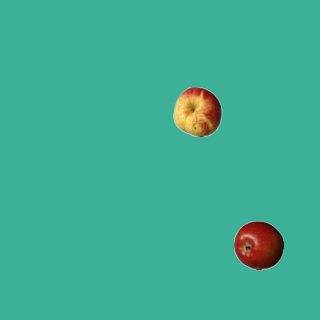Apple Braeburn: (233, 220, 283, 270)
Apple Red Yellow 1: (172, 86, 222, 136)
